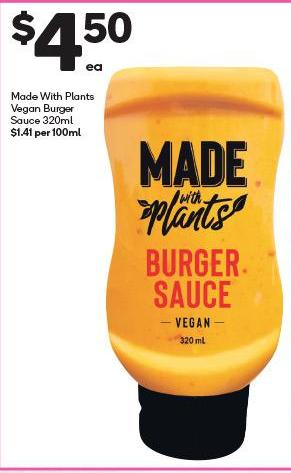description_block: (6, 85, 97, 127)
price_main: (4, 6, 141, 79)
product_image_block: (101, 60, 289, 466)
unit_price_block: (6, 126, 89, 141)
